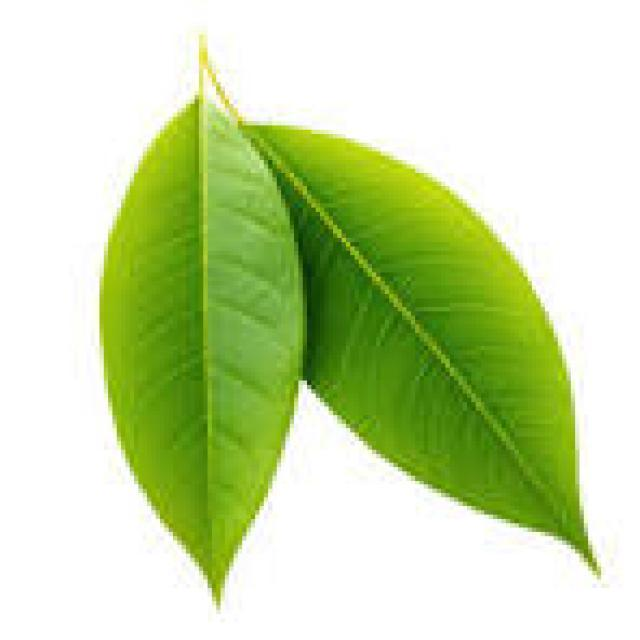banana_leaf: (98, 31, 602, 609)
leaf: (98, 34, 306, 610)
